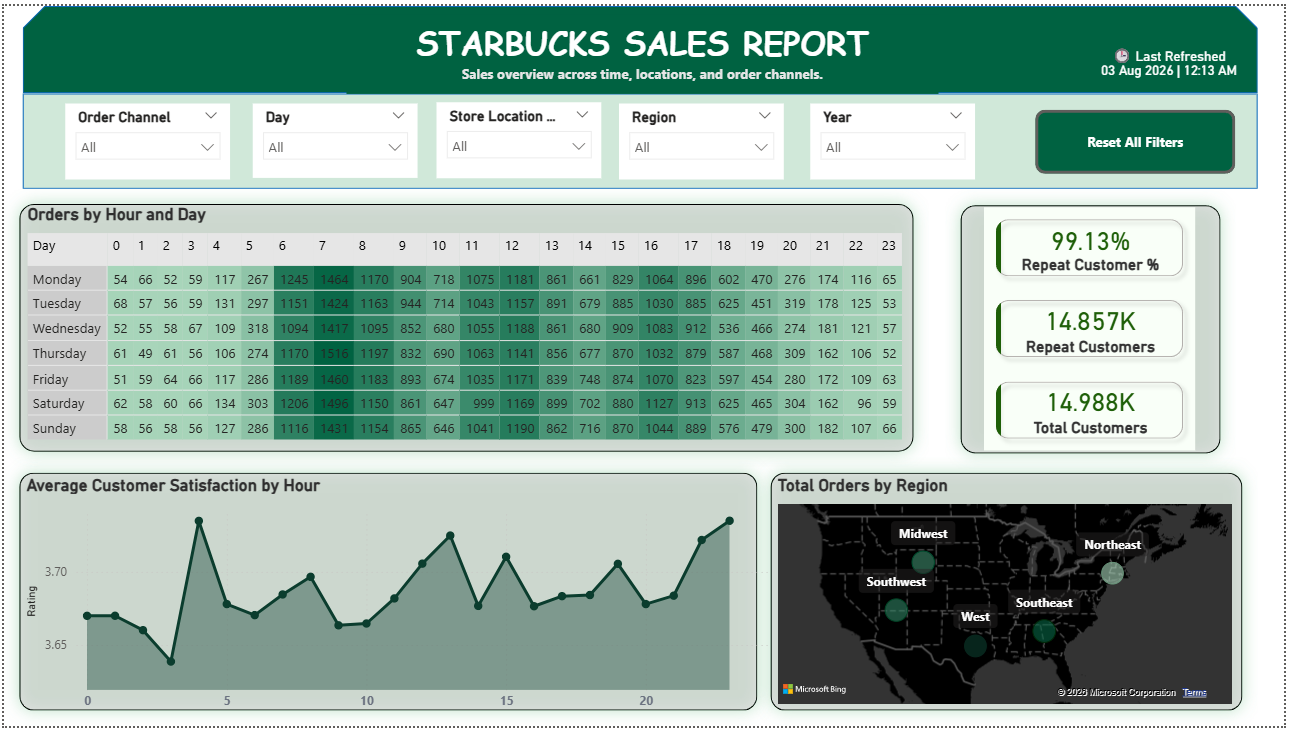

Layout of this report page (visuals, bound fields, positions):
{"tool":"powerbi","page":{"name":"CUSTOMER RETENTION & TRENDS","canvas":[1280,720],"ordinal":2},"visuals":[{"type":"shape","box":[751.2,451.2,502.5,268.8],"z":0},{"type":"shape","box":[940.7,183.7,290.7,279.1],"z":1000},{"type":"shape","box":[0,451.2,768.8,268.8],"z":2000},{"type":"shape","box":[0,182.5,924.9,278.6],"z":3000},{"type":"shape","box":[18.6,87.2,1234.9,95.3],"z":4000},{"type":"shape","box":[18.6,0,1234.9,87.2],"z":5000},{"type":"textbox","box":[343,8.1,591.9,79.1],"z":6000},{"type":"slicer","fields":{"Values":["STARBUCKS.order_channel"]},"box":[61.2,97.1,164.9,75.8],"z":7000},{"type":"slicer","title":"Days","fields":{"Values":["STARBUCKS.day_of_week"]},"box":[248.6,97.1,164.9,74.4],"z":8000},{"type":"slicer","fields":{"Values":["STARBUCKS.store_location_type"]},"box":[432.1,95.7,164.9,75.8],"z":9000},{"type":"slicer","fields":{"Values":["STARBUCKS.region"]},"box":[615.5,97.1,164.9,75.8],"z":10000},{"type":"actionButton","title":"Reset Filters","box":[1031.4,103.5,200,64],"z":11000},{"type":"pivotTable","title":"Orders by Hour and Day","fields":{"Values":["MEASURE_Table.Total Orders"],"Rows":["Calendar.Day"],"Columns":["STARBUCKS.Hour"]},"box":[19.2,197.6,893.3,249.7],"z":12000},{"type":"lineChart","title":"Average Customer Satisfaction by Hour","fields":{"Y":["Avg(STARBUCKS.customer_satisfaction)"],"Category":["STARBUCKS.Hour"]},"box":[17.5,468.8,751.2,243.8],"z":13000},{"type":"cardVisual","fields":{"Data":["MEASURE_Table.Repeat Customer %","MEASURE_Table.Repeat Customers","MEASURE_Table.Total Customers"]},"box":[960.5,201.2,251.2,245],"z":14000},{"type":"slicer","fields":{"Values":["Calendar.Year"]},"box":[805.7,97.1,164.9,75.8],"z":15000},{"type":"map","fields":{"Size":["MEASURE_Table.Total Orders"],"Category":["STARBUCKS.Region"]},"box":[768.8,468.8,463.8,233.8],"z":16000},{"type":"card","fields":{"Values":["Min(last.Last Refresh)"]},"box":[1087.5,31.2,155,55],"z":16001}]}

Visuals, with their boxes in screenshot pixels (x1, y1, x2, y2), scaled from the page's 1280x720 canvas onto the 1290x731 screenshot:
shape: bbox=(757, 458, 1263, 730)
shape: bbox=(948, 187, 1241, 470)
shape: bbox=(0, 458, 775, 730)
shape: bbox=(0, 185, 932, 468)
shape: bbox=(19, 89, 1263, 185)
shape: bbox=(19, 0, 1263, 89)
textbox: bbox=(346, 8, 942, 89)
slicer - STARBUCKS.order_channel: bbox=(62, 99, 228, 176)
"Days" slicer: bbox=(251, 99, 417, 174)
slicer - STARBUCKS.store_location_type: bbox=(435, 97, 602, 174)
slicer - STARBUCKS.region: bbox=(620, 99, 786, 176)
"Reset Filters" actionButton: bbox=(1039, 105, 1241, 170)
"Orders by Hour and Day" pivotTable: bbox=(19, 201, 920, 454)
"Average Customer Satisfaction by Hour" lineChart: bbox=(18, 476, 775, 723)
cardVisual - MEASURE_Table.Repeat Customer % x MEASURE_Table.Repeat Customers: bbox=(968, 204, 1221, 453)
slicer - Calendar.Year: bbox=(812, 99, 978, 176)
map - MEASURE_Table.Total Orders x STARBUCKS.Region: bbox=(775, 476, 1242, 713)
card - Min(last.Last Refresh): bbox=(1096, 32, 1252, 88)
